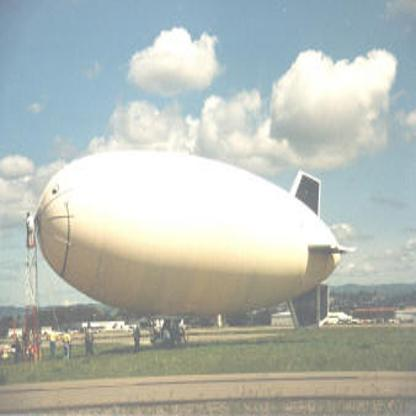Airship: (23, 147, 347, 335)
